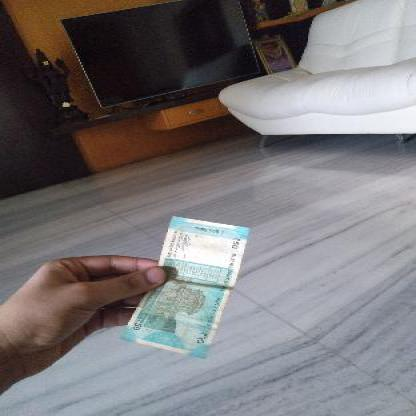New50Back: (128, 224, 244, 360)
